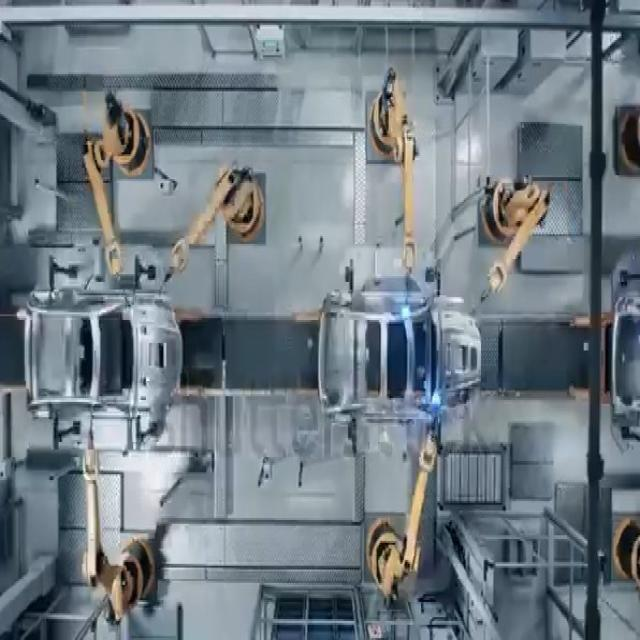auto: (315, 262, 494, 434), (19, 263, 187, 441)
robot: (356, 415, 444, 616), (75, 438, 172, 618), (71, 80, 155, 286), (358, 76, 426, 283), (472, 161, 554, 324), (196, 154, 268, 262)
